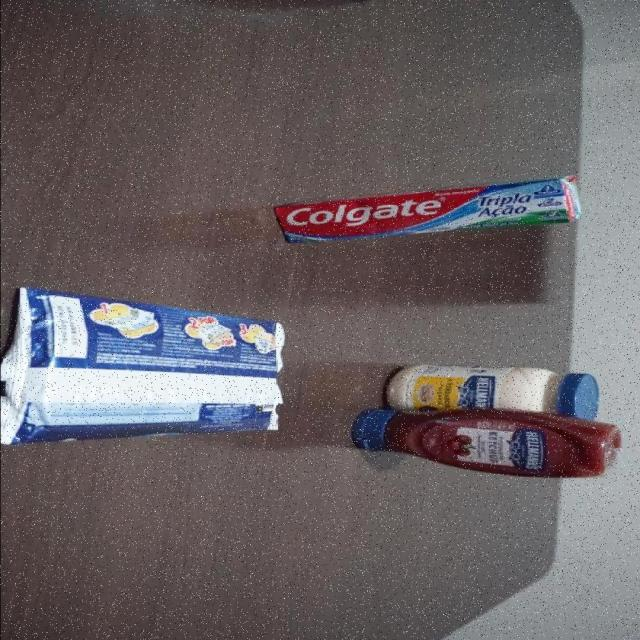Ketchup: (350, 407, 622, 478)
Mayonnaise: (383, 364, 598, 421)
Popcorn: (0, 284, 286, 444)
Toothpaste: (274, 174, 583, 247)
